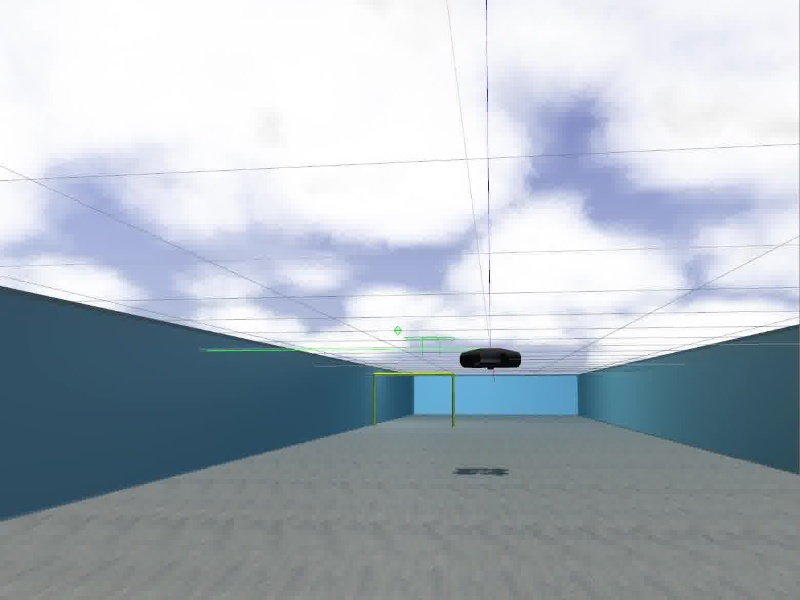gate: (371, 371, 455, 428)
